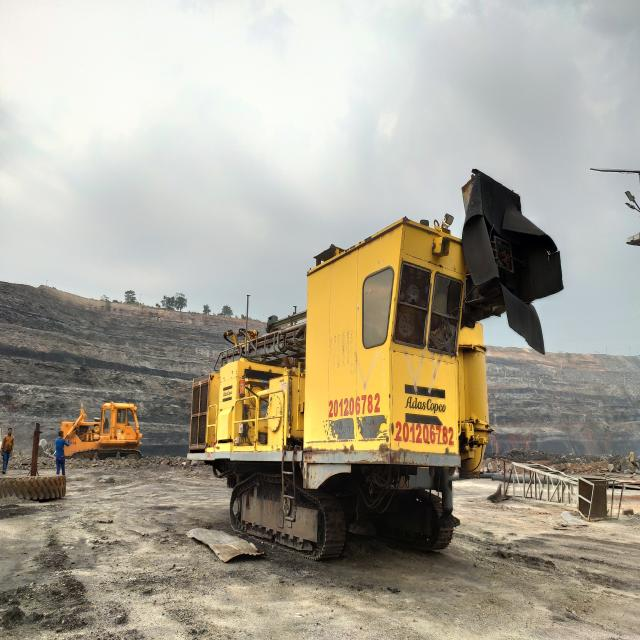buldozerpayloadergrader: (59, 402, 142, 457)
